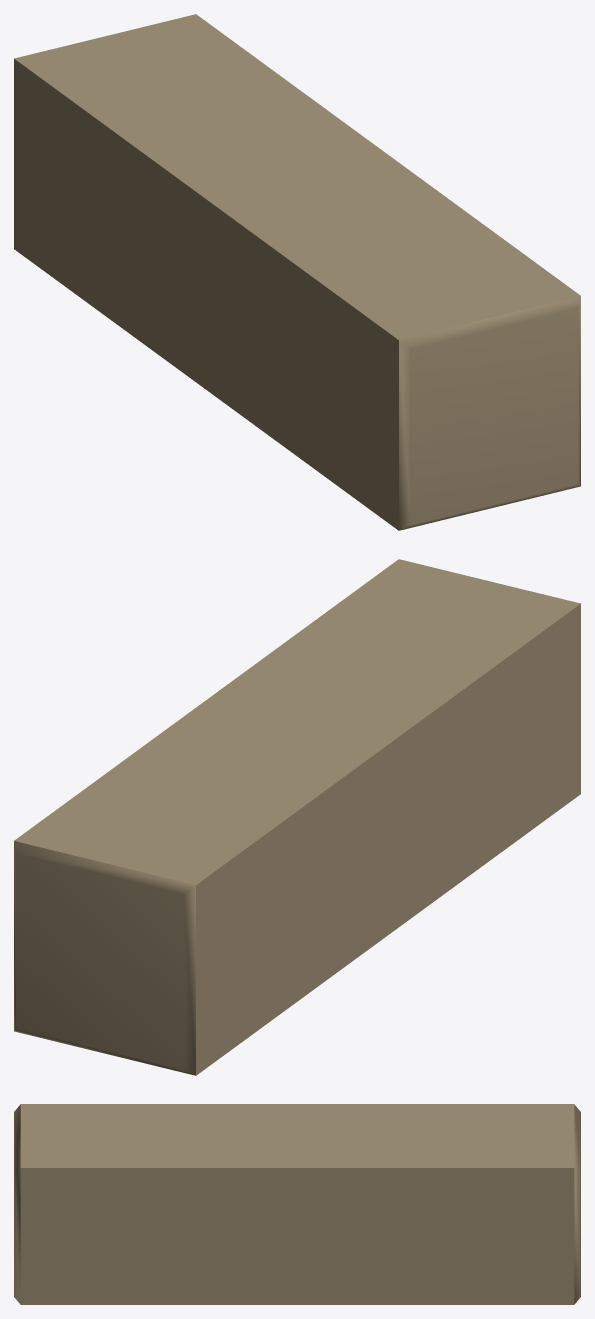
File: Wall_Detail_06.fbx
3 views of the same model, one above another, from view 1: azimuth 30°, elevation 25°; view 2: azimuth 150°, elevation 25°; view 3: azimuth 270°, elevation 25° (orthographic). The views are drawn at different scales.
Visible parts, largest first — view 1: Wall_Detail_06; view 2: Wall_Detail_06; view 3: Wall_Detail_06.
Part boxes in pixels (box(x1,y1,x2,y2)): Wall_Detail_06: box(14, 14, 580, 530); Wall_Detail_06: box(14, 559, 580, 1075); Wall_Detail_06: box(14, 1104, 580, 1304).
Bounding box in the file's own units: 0.8 × 0.8 × 3.
